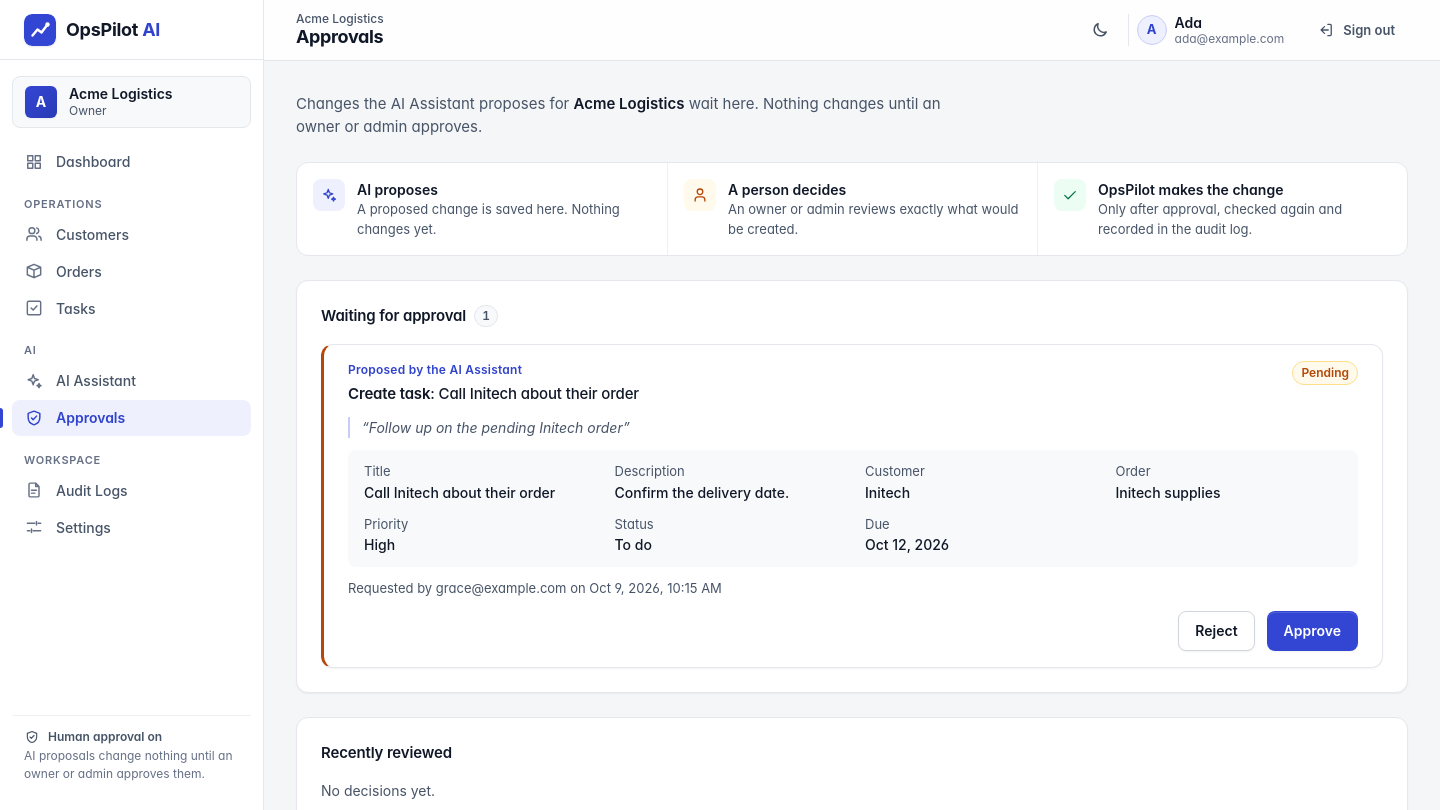
Test case: Approving › waits for the server, then shows the task as created and moves the card to recent decisions
Expected: the heading "Approvals" is shown, [296,26,384,49]
Click the button "Approve" at {"x": 1312, "y": 630}, box [1267,610,1358,650]
(page scrolled)
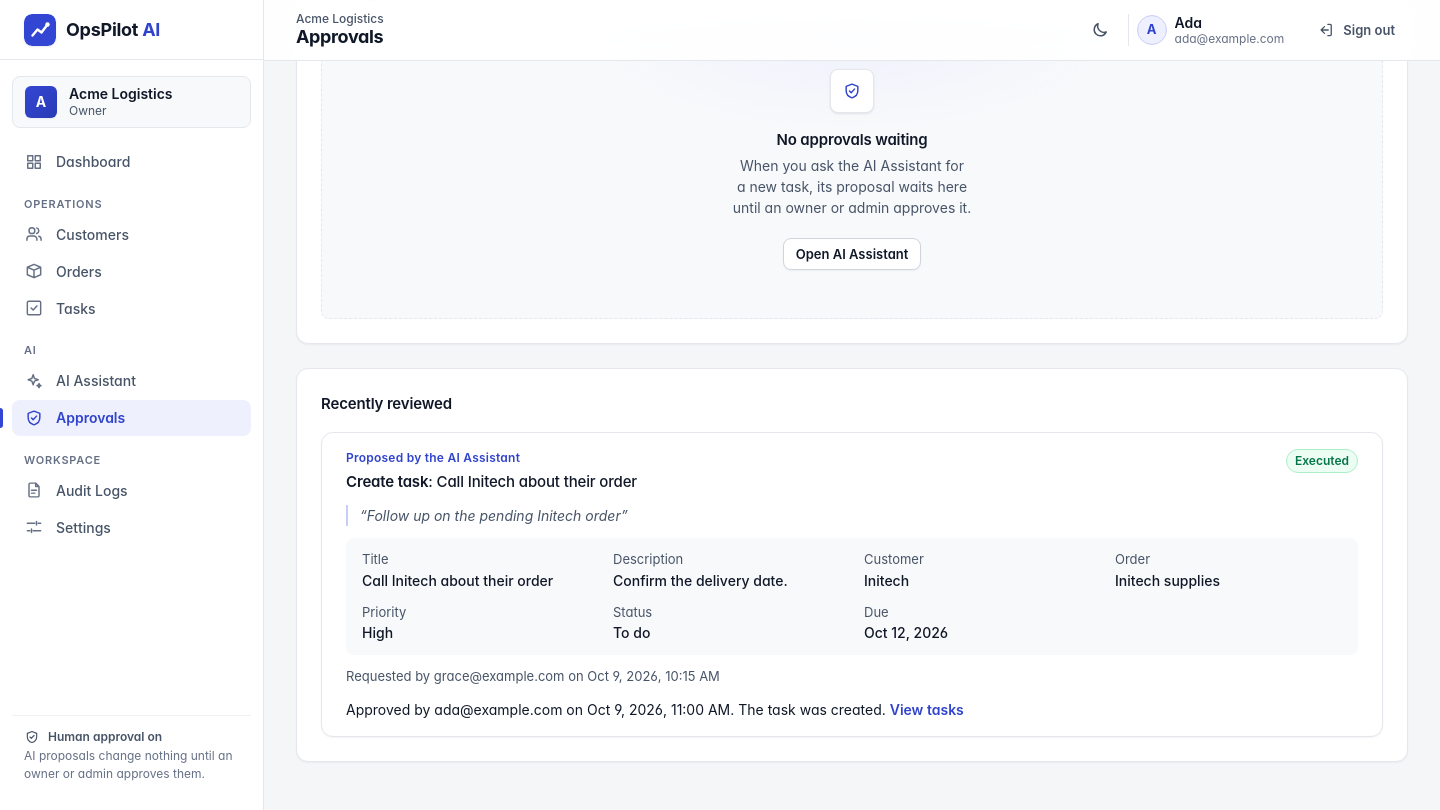
Result: the text "No approvals waiting" is shown at [776,128,928,151]
Result: the text "Executed" is shown at [1286,448,1358,472]
